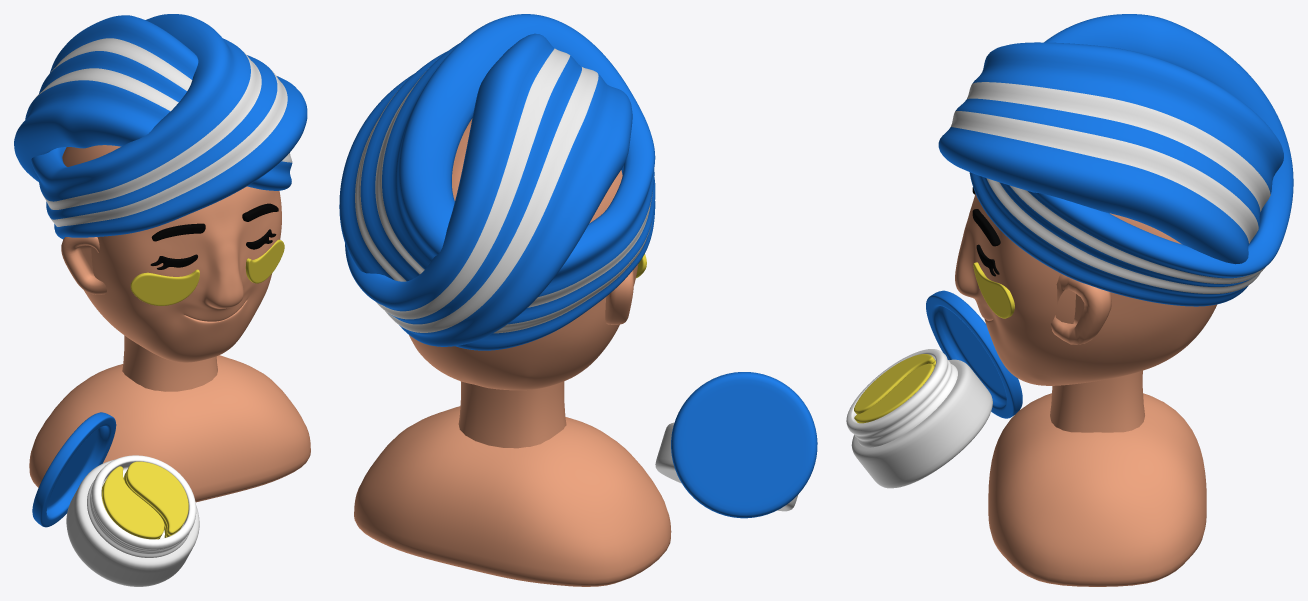
The model's file is eyes-mask-3d-animated-icon-1166199683463.glb.
3 views of the same model, side by side, from view 1: azimuth 30°, elevation 25°; view 2: azimuth 150°, elevation 25°; view 3: azimuth 270°, elevation 25° (orthographic). The views are drawn at different scales.
Parts seen in each view (by area): view 1: BezierCircle.003, Cube.004, Base Model.001, Extrude, Cylinder.036, Cylinder.038, Cylinder.037, Extrude.002, Plane.021, Plane.003; view 2: BezierCircle.003, Cube.004, Cylinder.038, Base Model.001, Cylinder.036; view 3: BezierCircle.003, Cube.004, Base Model.001, Cylinder.036, Cylinder.038, Cylinder.037, Extrude, Extrude.002.
Boxes of the visible parts, x1,y1,x2,y2 form: BezierCircle.003: (14,14,307,239); Cube.004: (29,335,310,502); Base Model.001: (61,145,281,362); Extrude: (101,461,188,539); Cylinder.036: (66,459,199,586); Cylinder.038: (32,412,116,527); Cylinder.037: (87,455,196,557); Extrude.002: (130,239,284,305); Plane.021: (151,203,278,241); Plane.003: (150,229,276,269); BezierCircle.003: (339,14,655,350); Cube.004: (354,381,671,586); Cylinder.038: (671,372,817,518); Base Model.001: (409,118,638,390); Cylinder.036: (655,422,797,511); BezierCircle.003: (938,14,1293,306); Cube.004: (988,370,1206,586); Base Model.001: (955,193,1217,385); Cylinder.036: (851,359,992,488); Cylinder.038: (926,290,1022,418); Cylinder.037: (846,349,957,447); Extrude: (854,354,935,423); Extrude.002: (973,262,1014,318).
Size of the model in its own units: 3.6 by 4.84 by 3.8.
